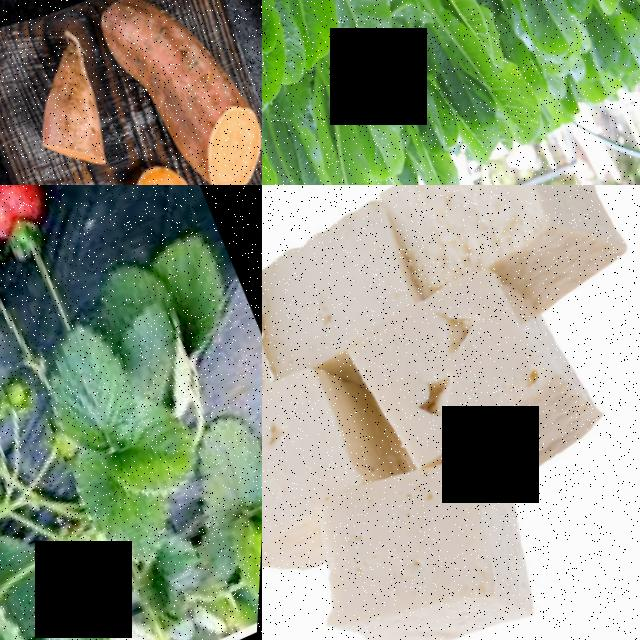spinach: (276, 55, 405, 185), (327, 50, 426, 185), (481, 55, 565, 154), (421, 0, 523, 79), (262, 0, 364, 65), (585, 2, 640, 85), (413, 131, 475, 185), (570, 0, 639, 23)
strawberry: (0, 185, 62, 252)
sweet potato: (114, 0, 262, 185), (6, 29, 132, 182), (195, 0, 262, 185), (120, 153, 219, 185)
tofu: (348, 247, 622, 518), (295, 425, 579, 640), (262, 193, 439, 371), (262, 381, 372, 597), (451, 185, 640, 309)
